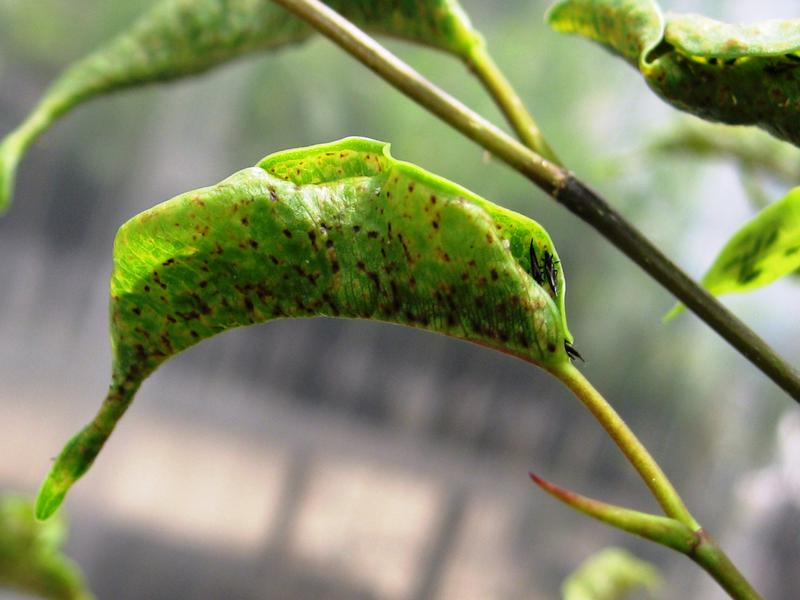Thrips: (101, 178, 599, 378)
